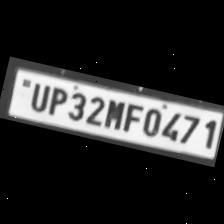0: (138, 104, 164, 138)
1: (194, 116, 220, 150)
2: (82, 92, 108, 126)
3: (62, 87, 89, 122)
4: (158, 107, 183, 142)
7: (174, 111, 200, 146)
F: (118, 99, 144, 134)
M: (100, 95, 125, 131)
P: (44, 83, 68, 117)
U: (24, 79, 50, 113)
